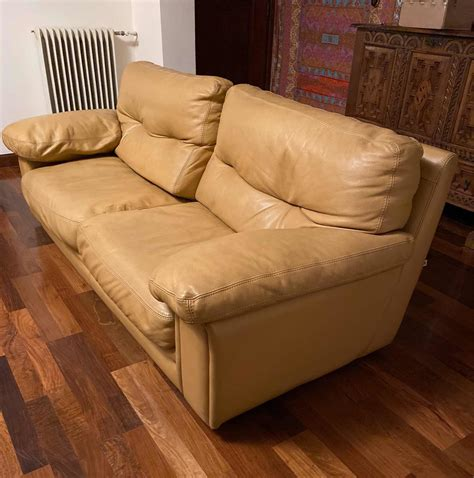cuero: (1, 59, 458, 431)
